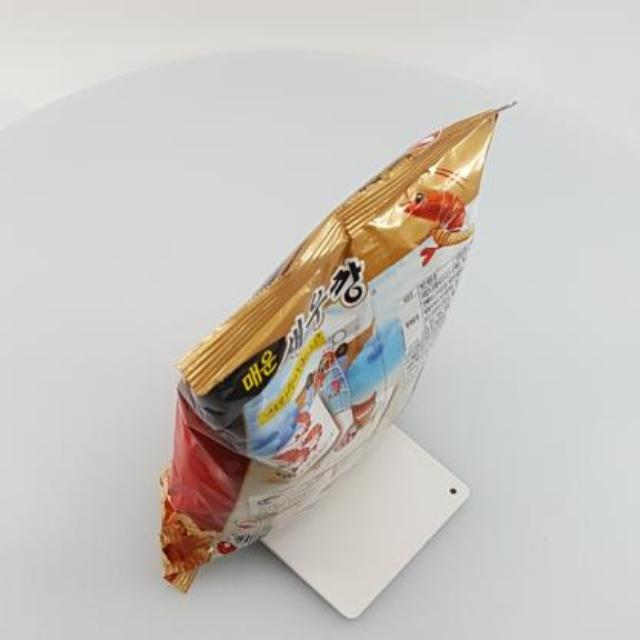snack_bag: (150, 89, 526, 607)
